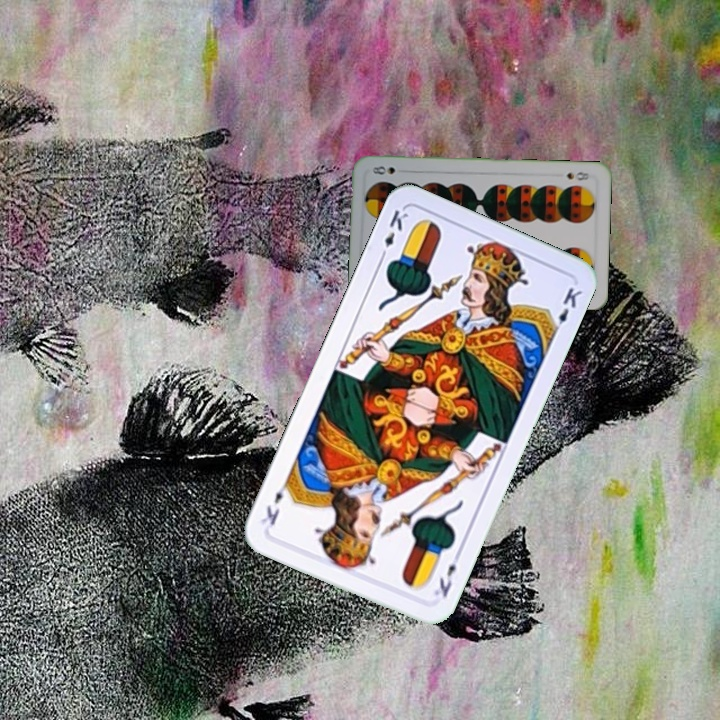EK: (375, 205, 411, 263), (430, 548, 464, 600)
S8: (563, 168, 594, 183)
